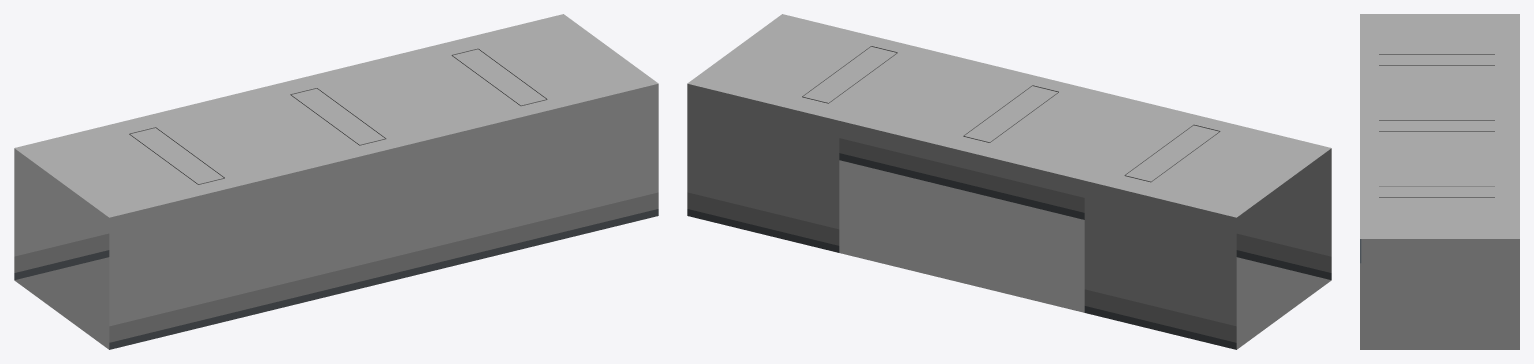
Rendered from SM_Floor_Metro_05.fbx.
3 views of the same model, side by side, from view 1: azimuth 30°, elevation 25°; view 2: azimuth 150°, elevation 25°; view 3: azimuth 270°, elevation 25° (orthographic). The views are drawn at different scales.
Parts seen in each view (by area): view 1: SM_Floor_Metro_05; view 2: SM_Floor_Metro_05; view 3: SM_Floor_Metro_05.
Boxes of the visible parts, box(x1,y1,x2,y2) form: SM_Floor_Metro_05: box(14, 14, 658, 349); SM_Floor_Metro_05: box(687, 14, 1331, 349); SM_Floor_Metro_05: box(1360, 14, 1519, 349).
Size of the model in its own units: 15 by 3.47 by 4.5.
